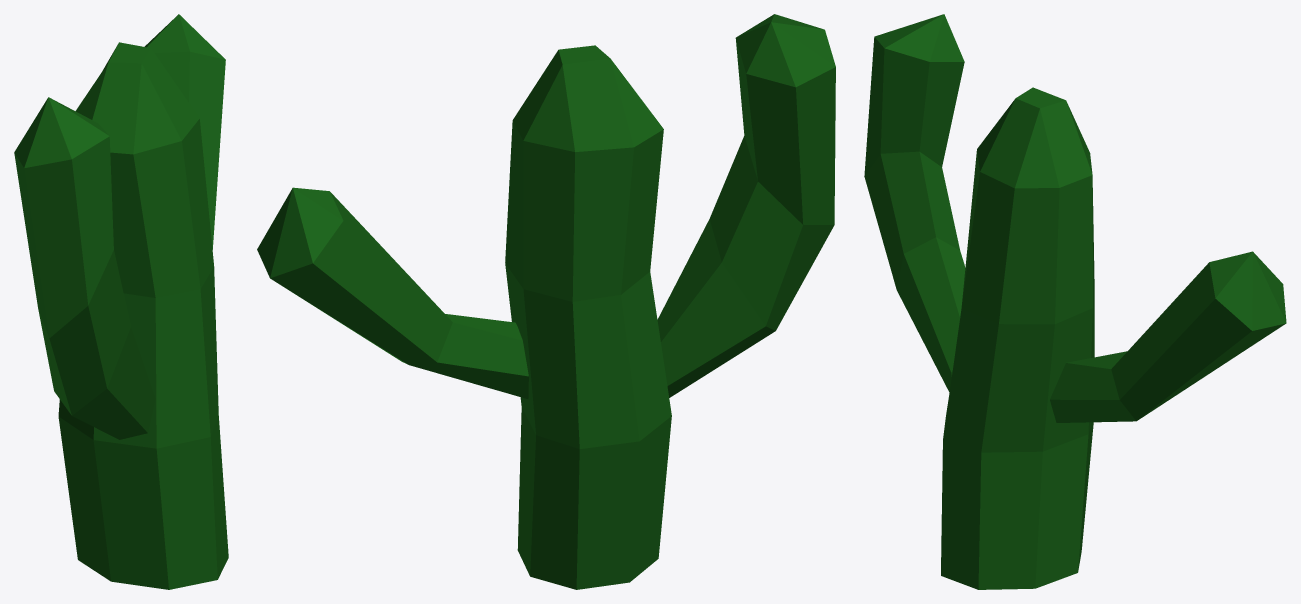
The model's file is cactus-3.glb.
3 renders of one model, left to right at view 1: azimuth 30°, elevation 25°; view 2: azimuth 150°, elevation 25°; view 3: azimuth 270°, elevation 25°, orthographic. The views are drawn at different scales.
Visible parts, largest first — view 1: Cylinder.012, Cylinder.013, Cylinder.014; view 2: Cylinder.012, Cylinder.013, Cylinder.014; view 3: Cylinder.012, Cylinder.013, Cylinder.014.
Boxes of the visible parts, box(x1,y1,x2,y2) form: Cylinder.012: box(58, 42, 228, 589); Cylinder.013: box(14, 97, 155, 439); Cylinder.014: box(144, 14, 225, 249); Cylinder.012: box(505, 45, 671, 589); Cylinder.013: box(657, 14, 835, 397); Cylinder.014: box(257, 187, 528, 398); Cylinder.012: box(941, 87, 1094, 589); Cylinder.013: box(864, 14, 965, 392); Cylinder.014: box(1050, 251, 1286, 422).
Size of the model in its own units: 1.85 by 2.46 by 1.94.
